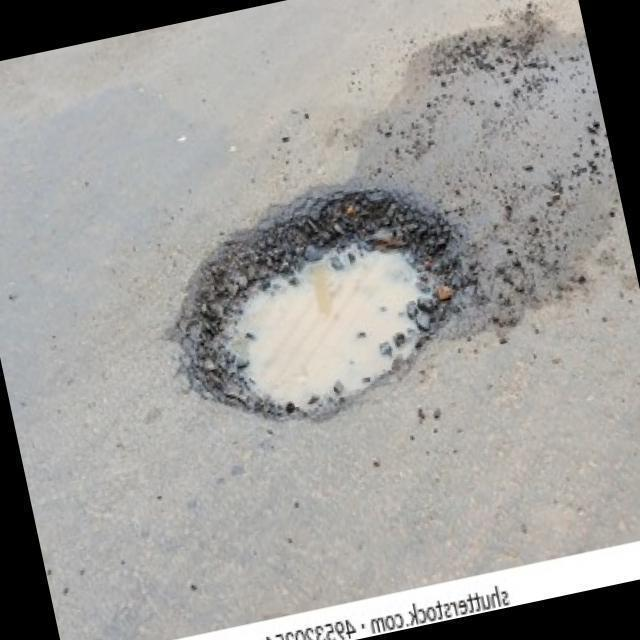pothole: (149, 165, 488, 450)
